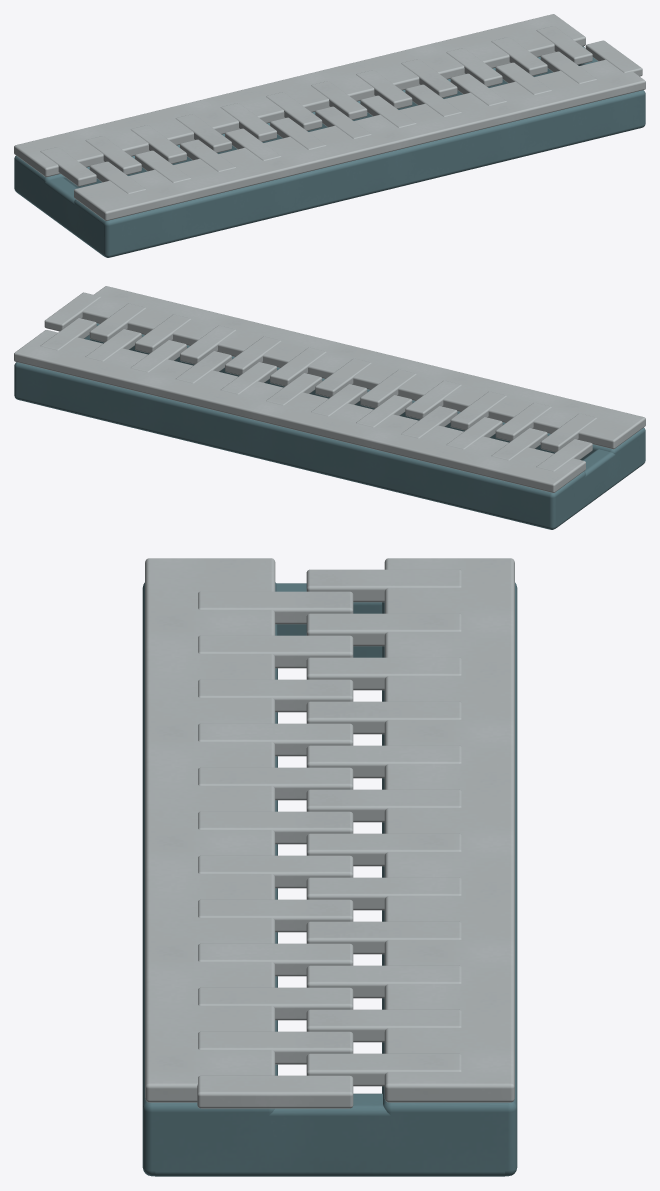
Rendered from gorgehold-survivor-gallery-and-operations-gallery-brid-9843c90c__32869.glb.
3 renders of one model, top to bottom at view 1: azimuth 30°, elevation 25°; view 2: azimuth 150°, elevation 25°; view 3: azimuth 270°, elevation 25°, orthographic. The views are drawn at different scales.
Visible parts, largest first — view 1: gallery-bridge-expansion-joint; view 2: gallery-bridge-expansion-joint; view 3: gallery-bridge-expansion-joint.
Part boxes in pixels (x1=…): gallery-bridge-expansion-joint: x1=14, y1=14, x2=645, y2=257; gallery-bridge-expansion-joint: x1=14, y1=286, x2=645, y2=529; gallery-bridge-expansion-joint: x1=142, y1=558, x2=517, y2=1176.
Bounding box in the file's own units: 2.44 × 0.2026 × 0.7199.
2 materials, 2 textured.
